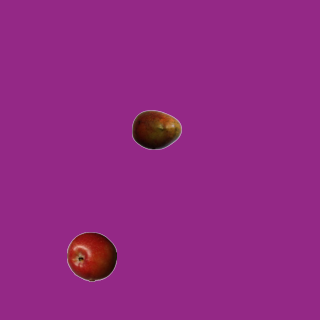Apple Braeburn: (66, 231, 116, 281)
Mango Red: (131, 104, 181, 154)
